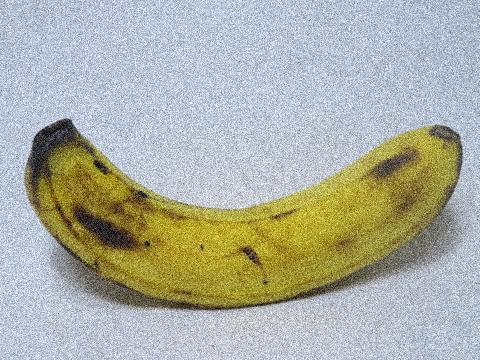ripe: (15, 92, 479, 318)
